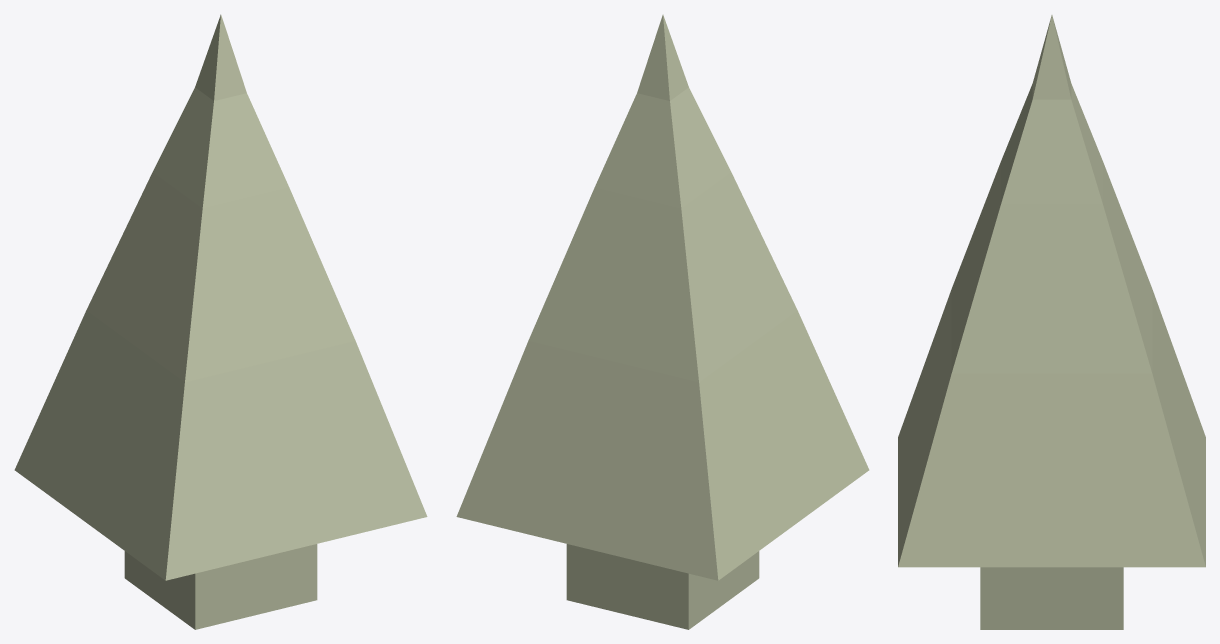
The model's file is Tree.FBX.
3 renders of one model, left to right at view 1: azimuth 30°, elevation 25°; view 2: azimuth 150°, elevation 25°; view 3: azimuth 270°, elevation 25°, orthographic.
Visible parts, largest first — view 1: Tree; view 2: Tree; view 3: Tree.
Part boxes in pixels (x1,y1,x2,y2): Tree: [14, 14, 427, 629]; Tree: [456, 14, 869, 629]; Tree: [898, 15, 1205, 629].
Bounding box in the file's own units: 4.29 × 9 × 4.29.
